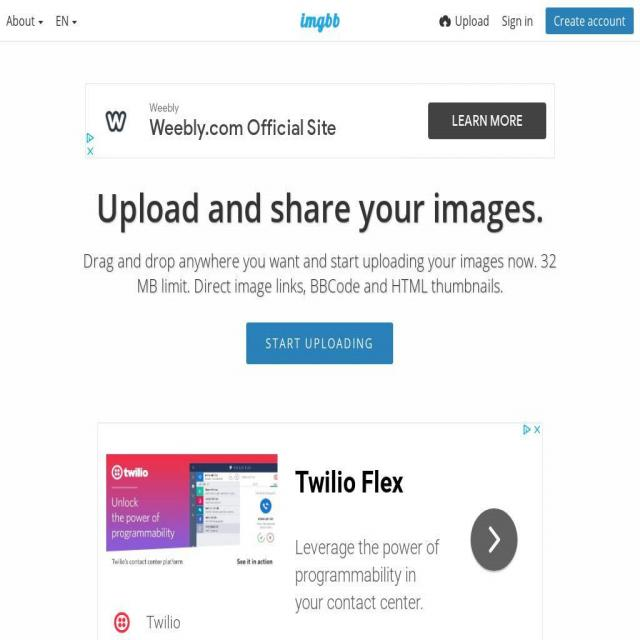button: (246, 321, 394, 365), (428, 102, 546, 140), (546, 7, 634, 35)
select: (3, 10, 46, 33), (51, 10, 78, 32)
